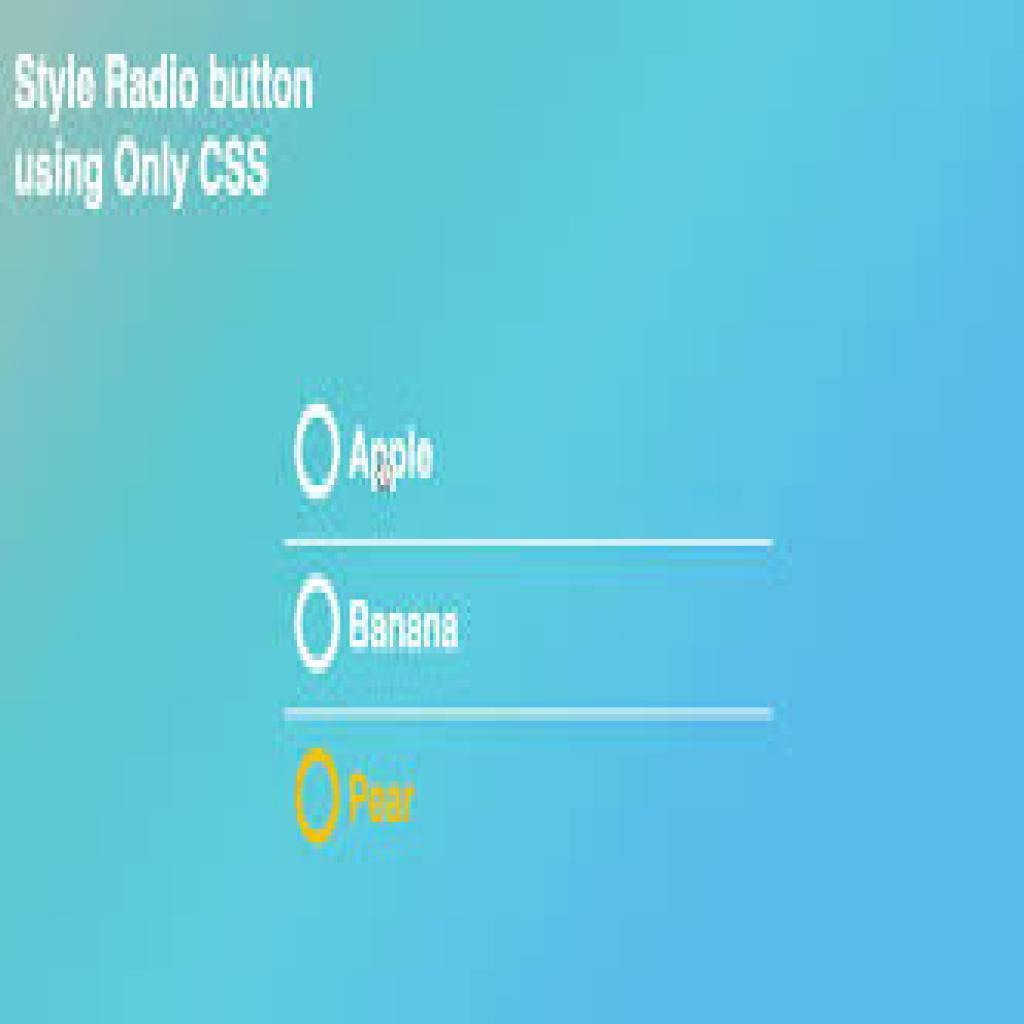label: (347, 595, 468, 661), (349, 427, 448, 496), (342, 766, 427, 836)
radio: (292, 575, 345, 675), (290, 407, 343, 500), (291, 748, 341, 845)
